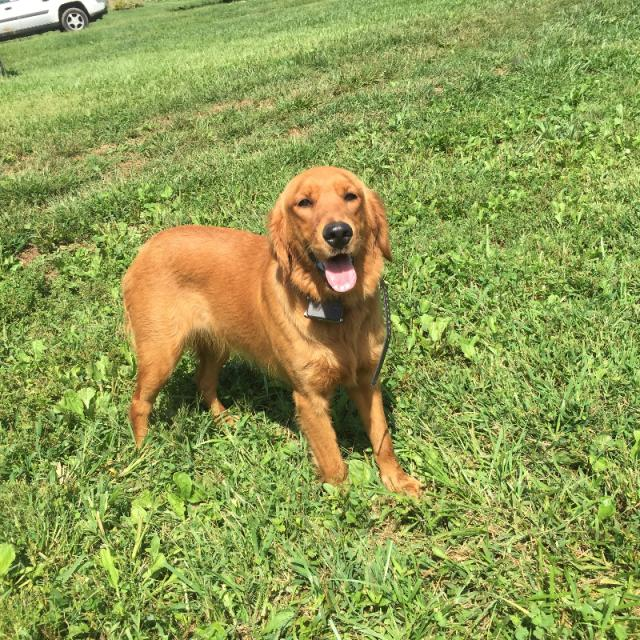golden_retriever_dog: (247, 163, 427, 318)
